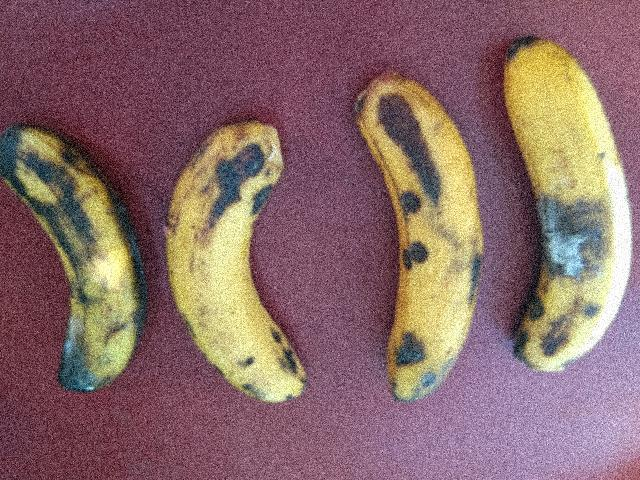overripe: (331, 70, 509, 437), (158, 109, 309, 411)
rotten: (502, 30, 639, 405), (0, 100, 157, 407)
